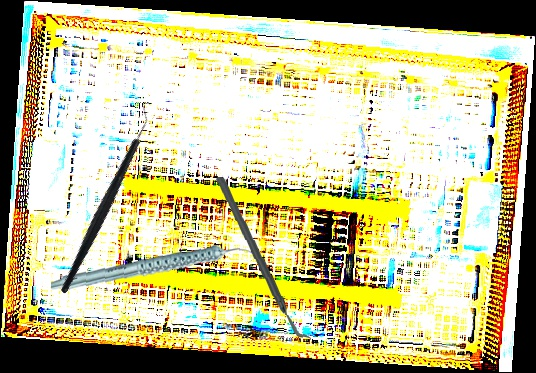Chopper: (6, 102, 202, 295), (215, 172, 311, 345)
Handpiece: (50, 236, 256, 302)
